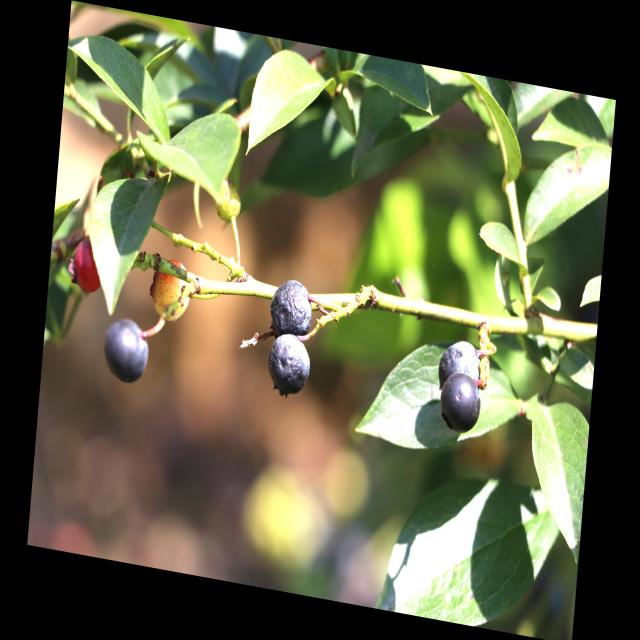blueberry: (100, 310, 154, 388), (436, 368, 484, 433), (263, 278, 312, 340), (266, 331, 310, 396), (436, 336, 485, 390)
blueberry-halfripe: (149, 254, 194, 325), (67, 233, 107, 296)
